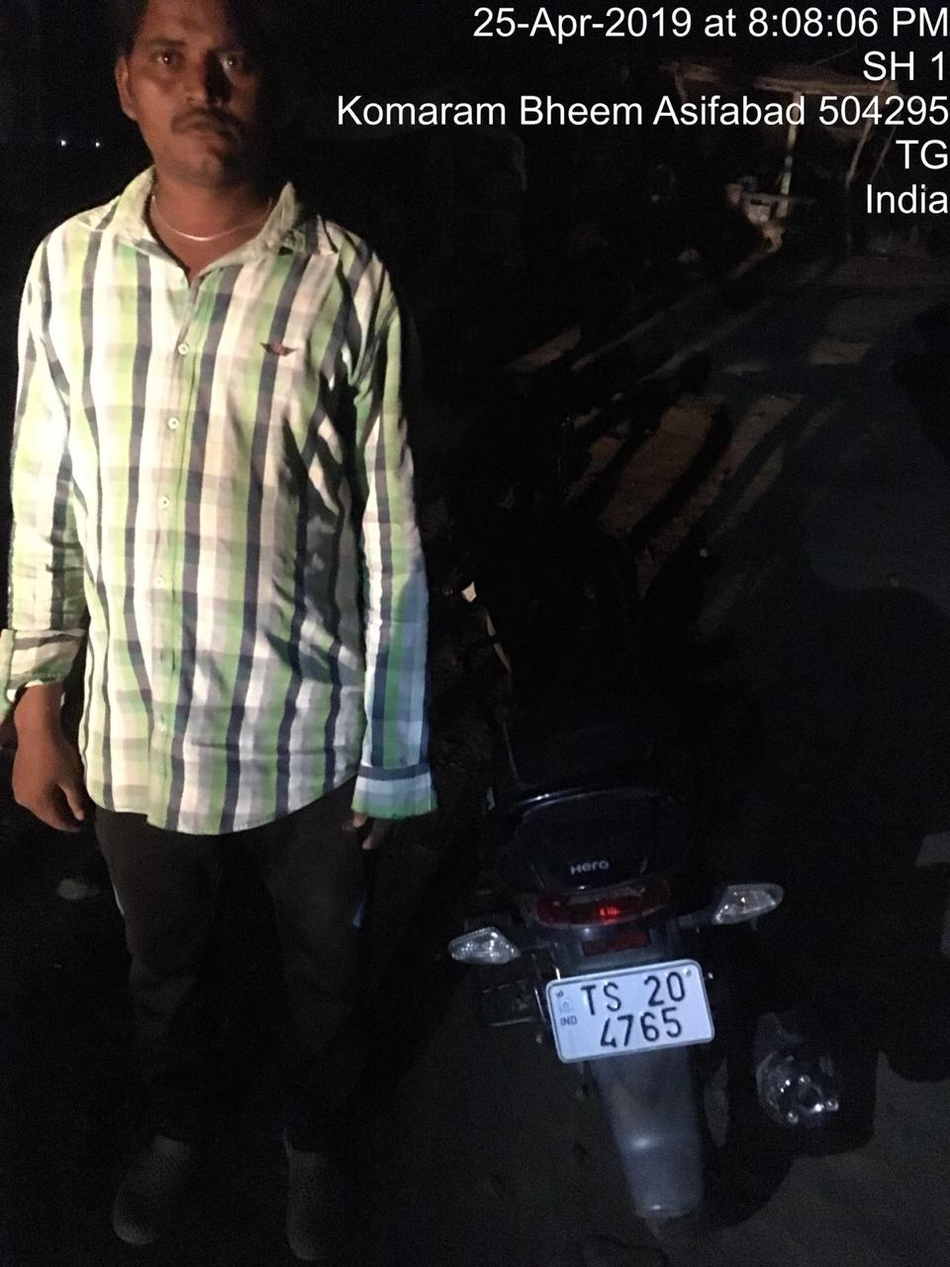plate: (521, 951, 741, 1096)
